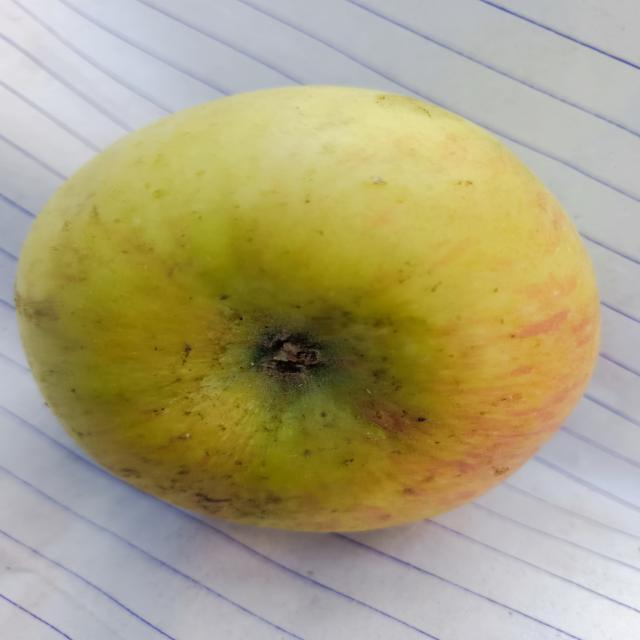Fresh Apple: (14, 82, 594, 540)
